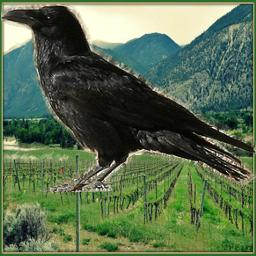Crow: (1, 4, 256, 192)
